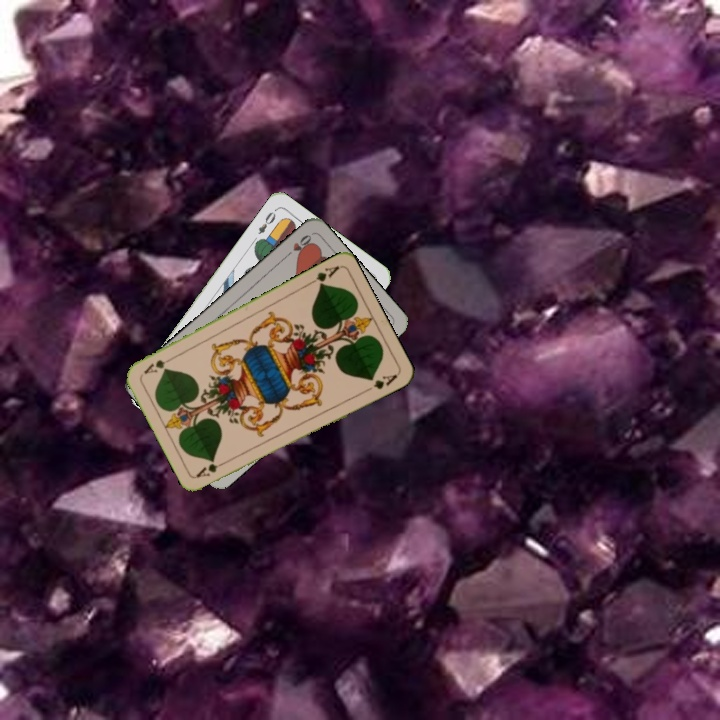EO: (254, 205, 279, 237)
GA: (304, 262, 342, 289), (193, 456, 231, 480)
HO: (280, 230, 314, 261)
